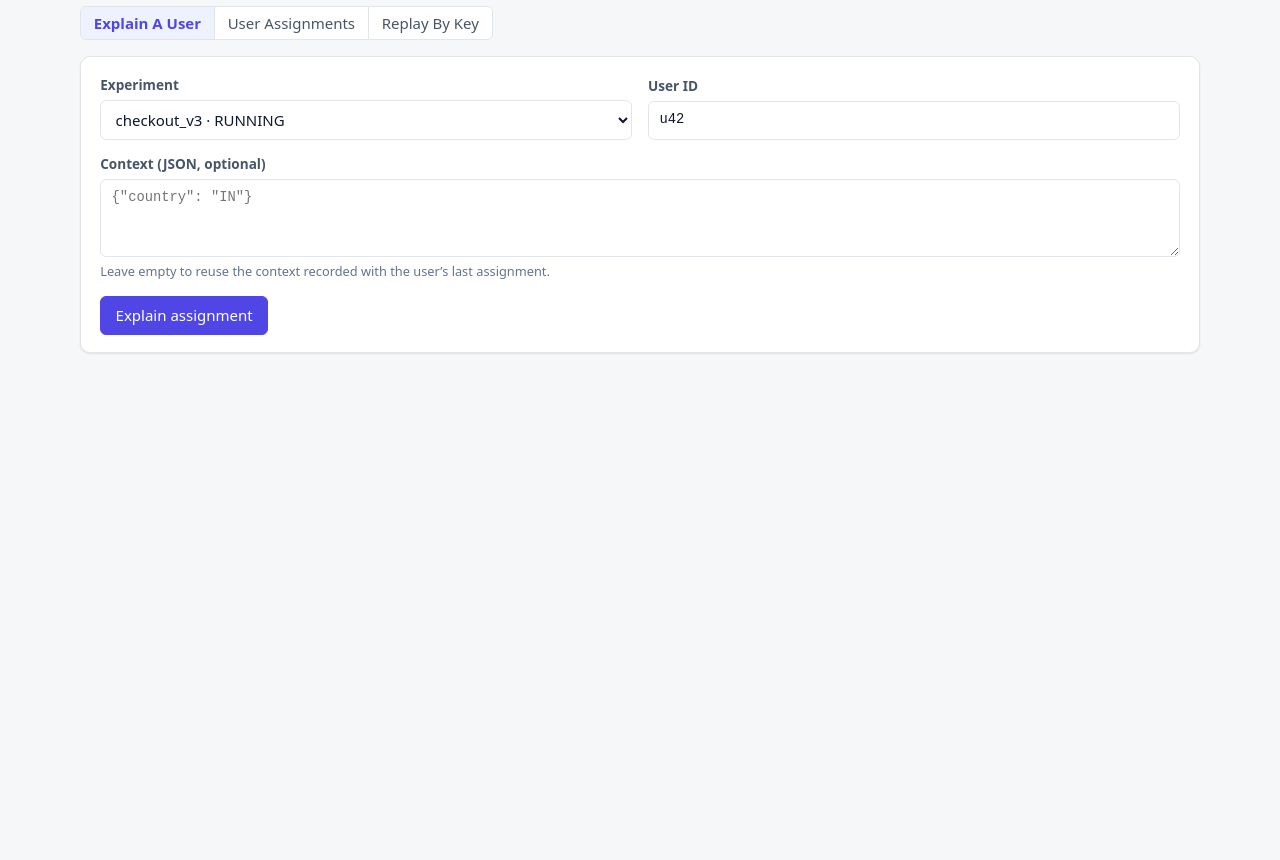
DebuggerPage › explains a user with a ✓/✗ checklist and the config at assignment
The width and height of the screenshot is (1280, 860).
Click the button "Explain assignment" at (184, 315), box [100,296,268,335]
(page scrolled)
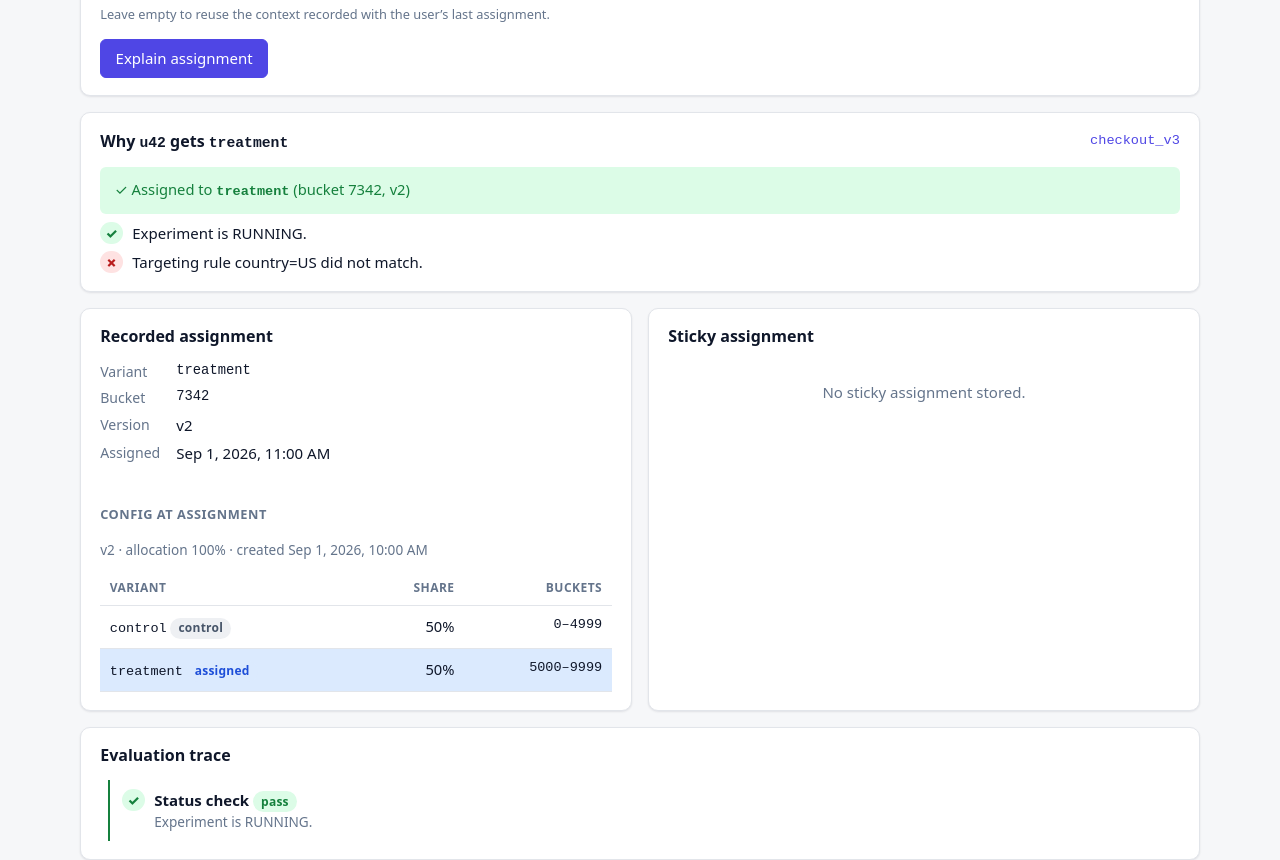
Check: the list named "Explanation" shows "Experiment is RUNNING.", box [132,223,307,243]
Check: the text named "failed" reads "✗", box [105,252,117,271]
Check: the heading "Config at assignment" is shown, box [100,505,267,523]
